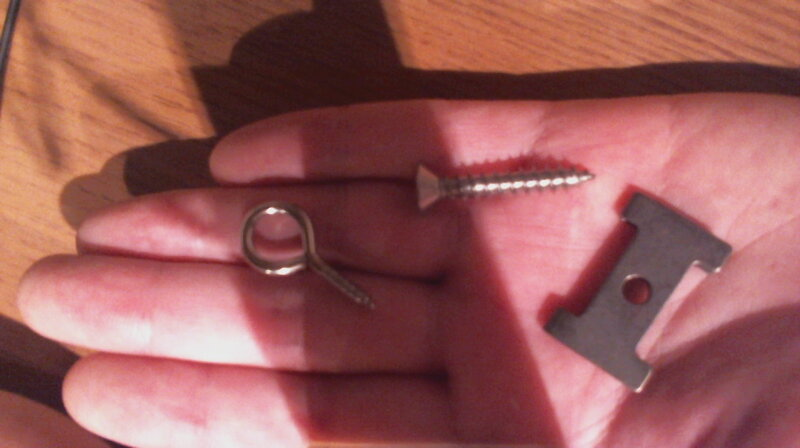O001: (233, 200, 385, 314)
O002: (539, 184, 735, 400)
S001: (405, 154, 596, 210)
